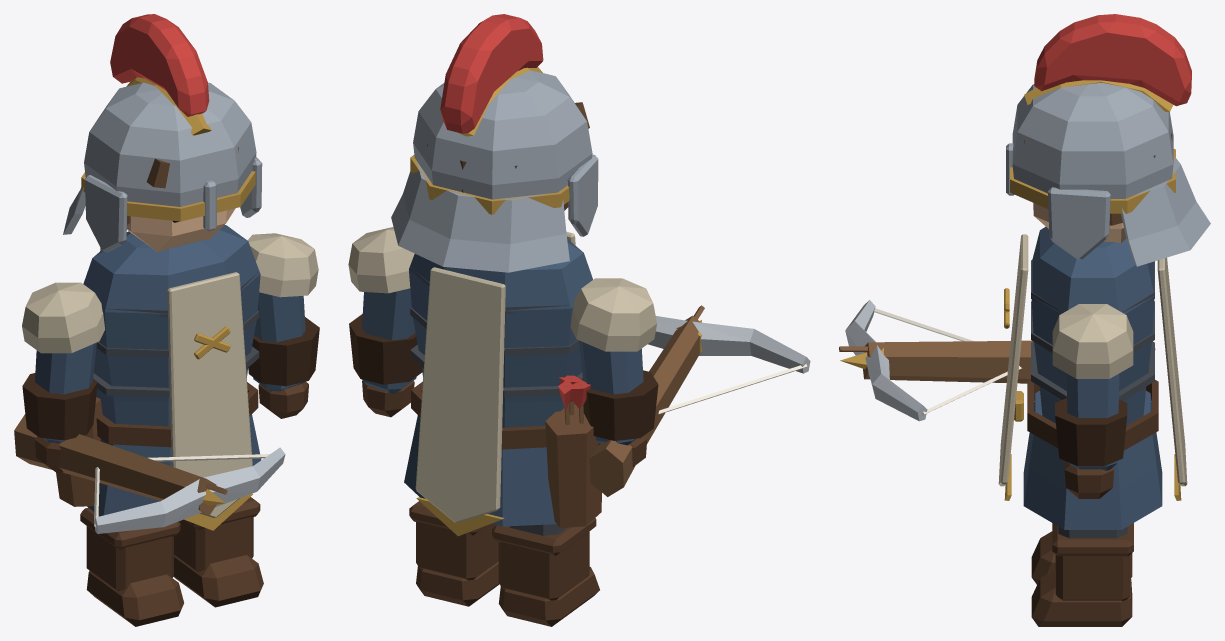
The model's file is Archer.fbx.
3 views of the same model, side by side, from view 1: azimuth 30°, elevation 25°; view 2: azimuth 150°, elevation 25°; view 3: azimuth 270°, elevation 25° (orthographic). The views are drawn at different scales.
Visible parts, largest first — view 1: Helm, Torso, Tabard, RightLegBoot, LeftLegBoot, Plume, Crossbow, RightArmPad, CrossbowProd, LeftArmPad, RightArmBracer, LeftArmBracer (+13 smaller); view 2: Helm, Tabard, Torso, RightLegBoot, Plume, LeftLegBoot, RightArmPad, BoltCase, Crossbow, Tunic, CrossbowProd, RightArmBracer (+11 smaller); view 3: Helm, Torso, Plume, Tunic, LeftLegBoot, Crossbow, Tabard, LeftArmPad, LeftArmBracer, CrossbowProd, LeftArm, HelmTrim (+8 smaller).
Boxes of the visible parts, box(x1,y1,x2,y2) form: Helm: box(63, 82, 262, 252); Torso: box(83, 225, 260, 426); Tabard: box(100, 248, 252, 517); RightLegBoot: box(80, 507, 183, 626); LeftLegBoot: box(173, 497, 263, 607); Plume: box(110, 14, 209, 116); Crossbow: box(14, 414, 216, 515); RightArmPad: box(22, 282, 104, 353); CrossbowProd: box(94, 447, 285, 533); LeftArmPad: box(247, 233, 318, 297); RightArmBracer: box(22, 373, 97, 440); LeftArmBracer: box(248, 317, 319, 386); Helm: box(391, 70, 598, 272); Tabard: box(415, 231, 575, 522); Torso: box(409, 238, 592, 427); RightLegBoot: box(492, 518, 599, 626); Plume: box(440, 14, 543, 133); LeftLegBoot: box(409, 501, 499, 606); RightArmPad: box(570, 278, 656, 351); BoltCase: box(545, 404, 601, 527); Crossbow: box(589, 315, 700, 496); Tunic: box(404, 415, 556, 526); CrossbowProd: box(648, 316, 810, 373); RightArmBracer: box(581, 370, 658, 440); Helm: box(1006, 83, 1210, 266); Torso: box(1031, 226, 1154, 425); Plume: box(1034, 14, 1191, 106); Tunic: box(1023, 390, 1162, 529); LeftLegBoot: box(1031, 523, 1133, 626); Crossbow: box(863, 340, 1037, 383); Tabard: box(998, 234, 1187, 486); LeftArmPad: box(1052, 304, 1133, 378); LeftArmBracer: box(1055, 398, 1127, 466); CrossbowProd: box(845, 300, 927, 421); LeftArm: box(1066, 373, 1119, 470); HelmTrim: box(1010, 80, 1175, 213).
Size of the model in its own units: 4.26 by 7.03 by 4.1.
